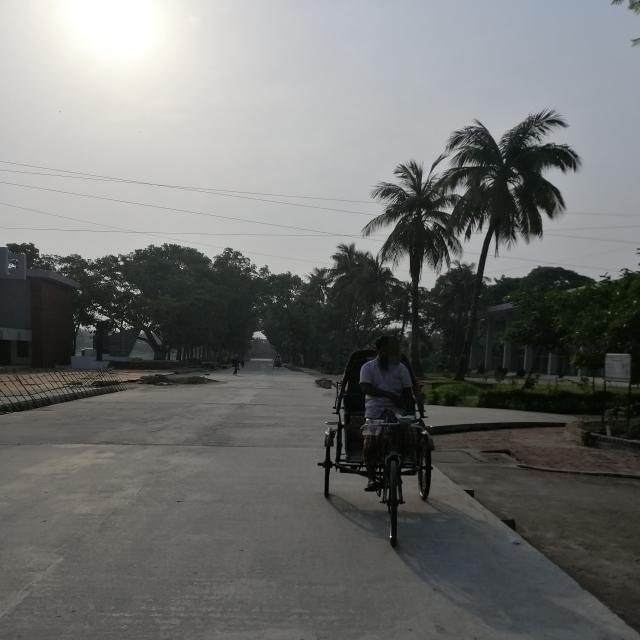Rickshaw: (314, 341, 444, 548)
